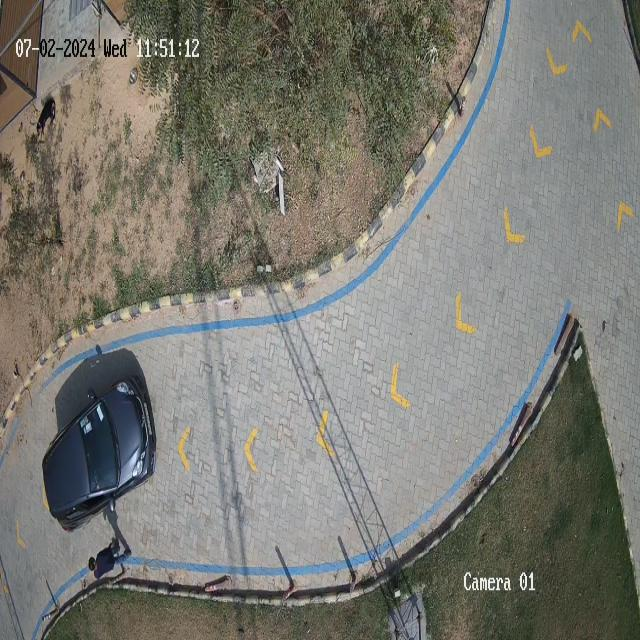car: (41, 373, 156, 530)
